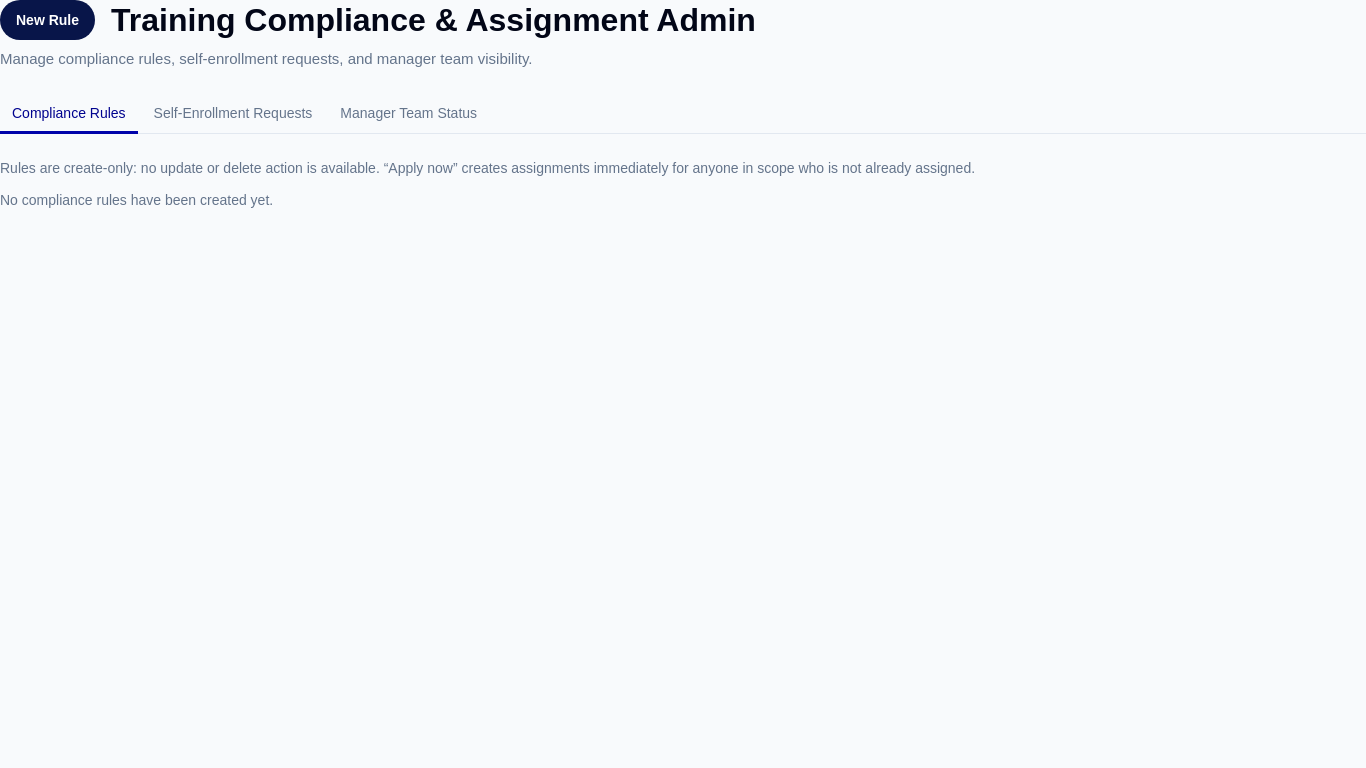
Test: MhdComplianceAdminPage › the target-type picker excludes JURISDICTION with an honest caption
This screenshot has width=1366, height=768.
Click the button "New Rule": (48, 20) [0,0,95,40]
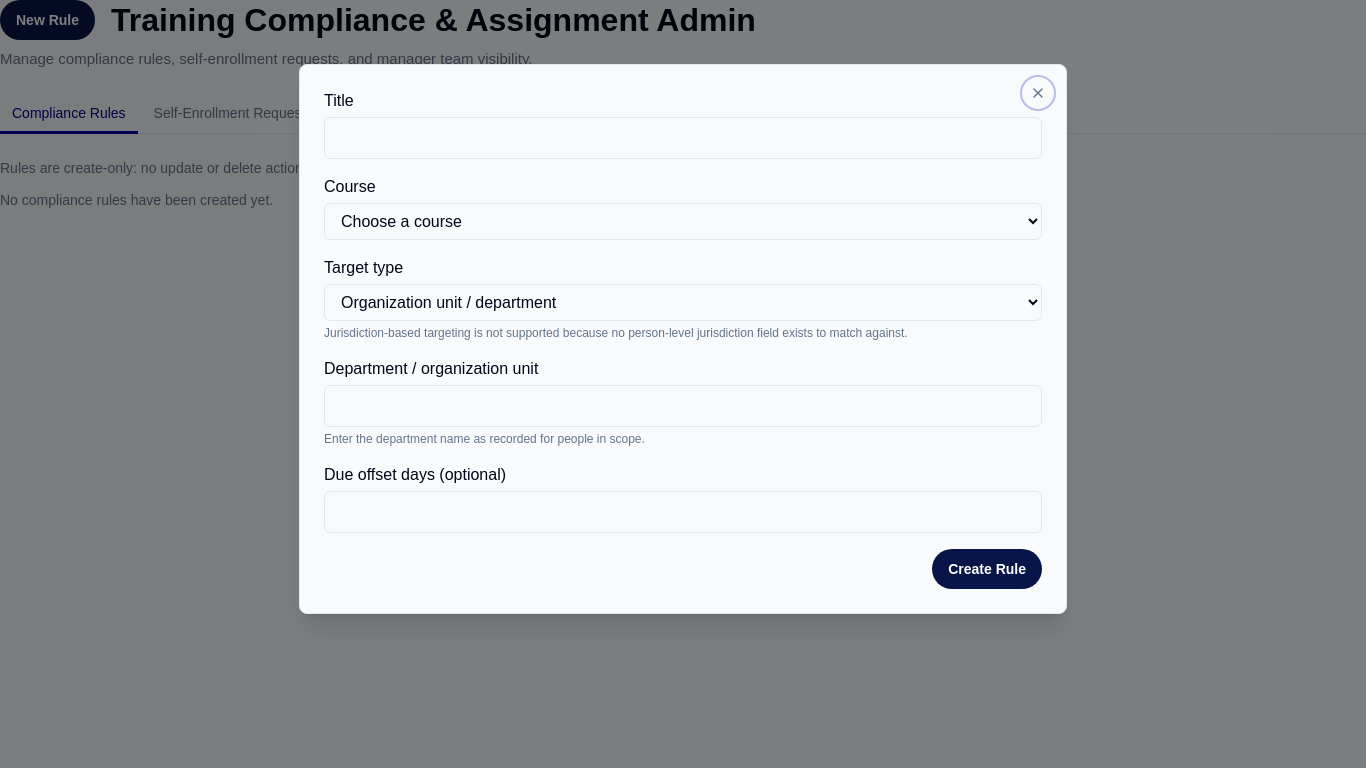
Check: the option does not show "Jurisdiction"
Check: the text "Jurisdiction-based targeting is not supported" is shown, box [324,326,908,340]
